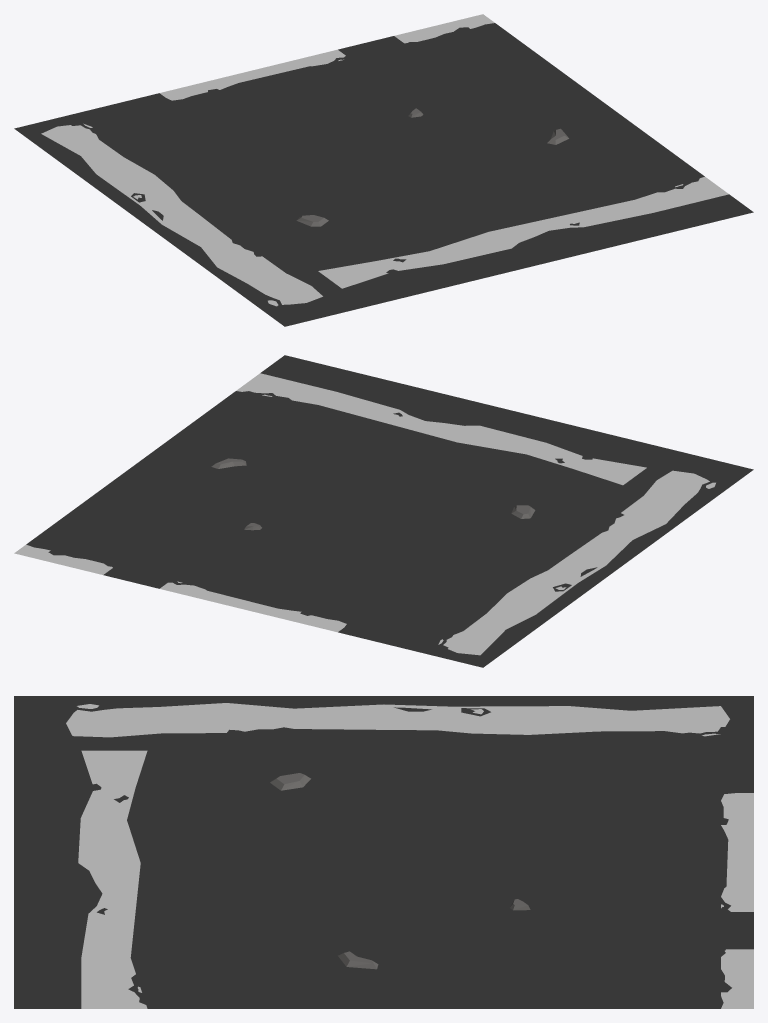
The model's file is Asphalt_06.FBX.
3 renders of one model, top to bottom at view 1: azimuth 30°, elevation 25°; view 2: azimuth 150°, elevation 25°; view 3: azimuth 270°, elevation 25°, orthographic. The views are drawn at different scales.
Visible parts, largest first — view 1: Asphalt_06; view 2: Asphalt_06; view 3: Asphalt_06.
Part boxes in pixels (x1=…): Asphalt_06: x1=14, y1=14, x2=753, y2=326; Asphalt_06: x1=14, y1=355, x2=753, y2=667; Asphalt_06: x1=14, y1=696, x2=753, y2=1008.
Size of the model in its own units: 5 by 0.03 by 5.
